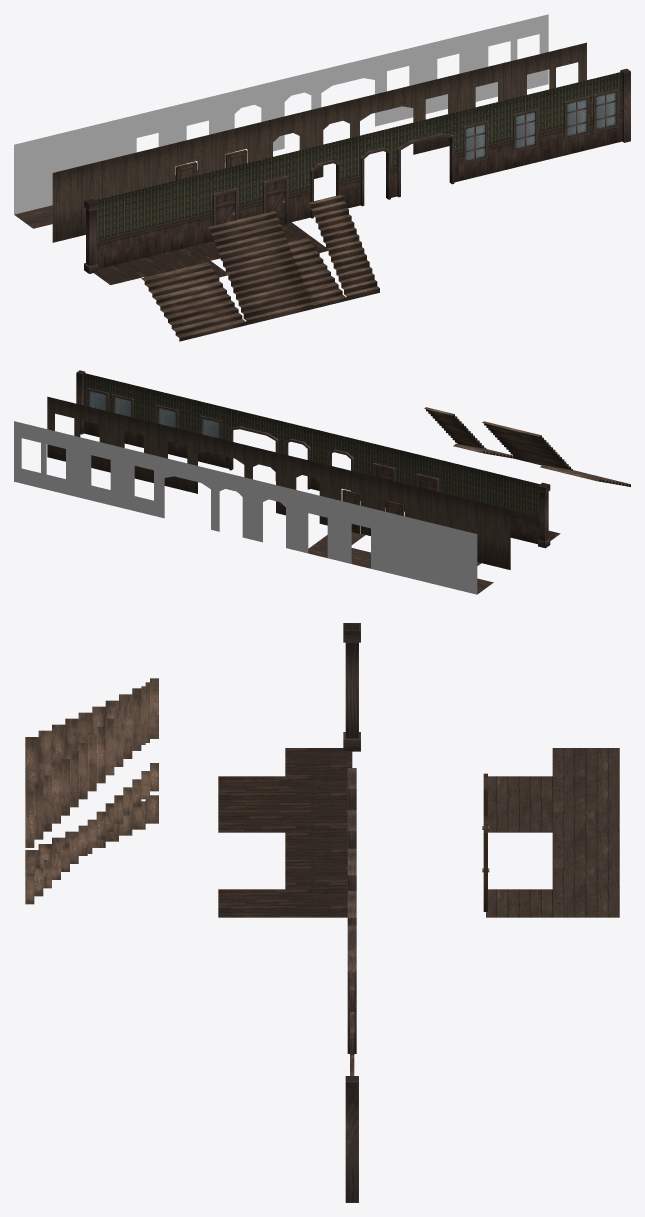
Rendered from Structure.fbx.
3 renders of one model, top to bottom at view 1: azimuth 30°, elevation 25°; view 2: azimuth 150°, elevation 25°; view 3: azimuth 270°, elevation 25°, orthographic. The views are drawn at different scales.
Parts seen in each view (by area): view 1: Stair.Wide_Full, Stairs.Wide_Half, Wall.WP_3x3, Wall.WP_3x3_Window, Wall.T_3x3, Stair.Narrow_Full, Wall.W_3x3, Wall.WP_3x3_Door, Wall.WP_3x3_Archway.Small, Wall.WP_3x3_Window.Double, Wall.T_3x3_Window, Wall.WP_3x1.5 (+35 smaller); view 2: Wall.T_3x3, Wall.T_3x3_Window, Wall.W_3x3, Wall.T_3x3_Door, Wall.T_3x3_Archway.Small, Wall.WP_3x3, Wall.T_3x3_Window.Double, Wall.W_3x3_Window, Wall.WP_3x3_Window, Stair.Wide_Full, Wall.T_3x1.5, Wall.W_3x3_Window.Double (+30 smaller); view 3: Stair.Wide_Full, Floor.T_3x3, Floor_3x3, Stair.Narrow_Full, Floor.T_3x1.5, Floor.T_1.5x3, Floor_1.5x3, Floor_3x1.5, Stairs.Wide_Half, Stairs.Narrow_Half, Floor.T_1.5x1.5, Pillar (+3 smaller).
Part boxes in pixels (box(x1,y1,x2,y2)): Stair.Wide_Full: box(208, 211, 312, 325); Stairs.Wide_Half: box(141, 262, 246, 341); Wall.WP_3x3: box(96, 185, 157, 269); Wall.WP_3x3_Window: box(492, 87, 558, 173); Wall.T_3x3: box(14, 128, 80, 214); Stair.Narrow_Full: box(308, 194, 379, 300); Wall.W_3x3: box(52, 157, 119, 242); Wall.WP_3x3_Door: box(191, 160, 258, 246); Wall.WP_3x3_Archway.Small: box(291, 136, 358, 221); Wall.WP_3x3_Window.Double: box(559, 72, 622, 156); Wall.T_3x3_Window: box(415, 30, 481, 113); Wall.WP_3x1.5: box(158, 177, 191, 254); Wall.T_3x3: box(419, 520, 477, 594); Wall.T_3x3_Window: box(72, 435, 129, 509); Wall.W_3x3: box(452, 495, 510, 569); Wall.T_3x3_Door: box(332, 499, 390, 573); Wall.T_3x3_Archway.Small: box(245, 478, 303, 552); Wall.WP_3x3: box(486, 471, 539, 544); Wall.T_3x3_Window.Double: box(14, 421, 71, 495); Wall.W_3x3_Window: box(105, 411, 163, 482); Wall.WP_3x3_Window: box(138, 386, 196, 458); Stair.Wide_Full: box(482, 421, 572, 470); Wall.T_3x1.5: box(390, 513, 419, 580); Wall.W_3x3_Window.Double: box(47, 396, 105, 471); Stair.Wide_Full: box(25, 678, 158, 847); Floor.T_3x3: box(488, 776, 619, 832); Floor_3x3: box(218, 776, 347, 832); Stair.Narrow_Full: box(25, 763, 158, 904); Floor.T_3x1.5: box(552, 832, 619, 889); Floor.T_1.5x3: box(486, 889, 619, 917); Floor_1.5x3: box(218, 889, 347, 917); Floor_3x1.5: box(285, 832, 347, 889); Stairs.Wide_Half: box(25, 682, 158, 791); Stairs.Narrow_Half: box(25, 795, 158, 875); Floor.T_1.5x1.5: box(552, 748, 619, 776); Pillar: box(343, 623, 360, 751).
Bounding box in the file's own units: 2442 × 300 × 1333.
